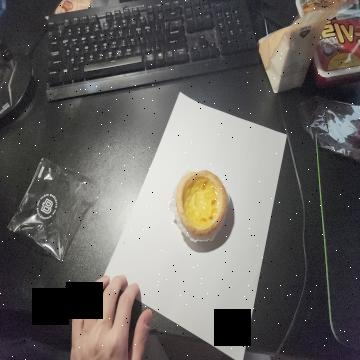EggTart: (175, 168, 229, 236)
